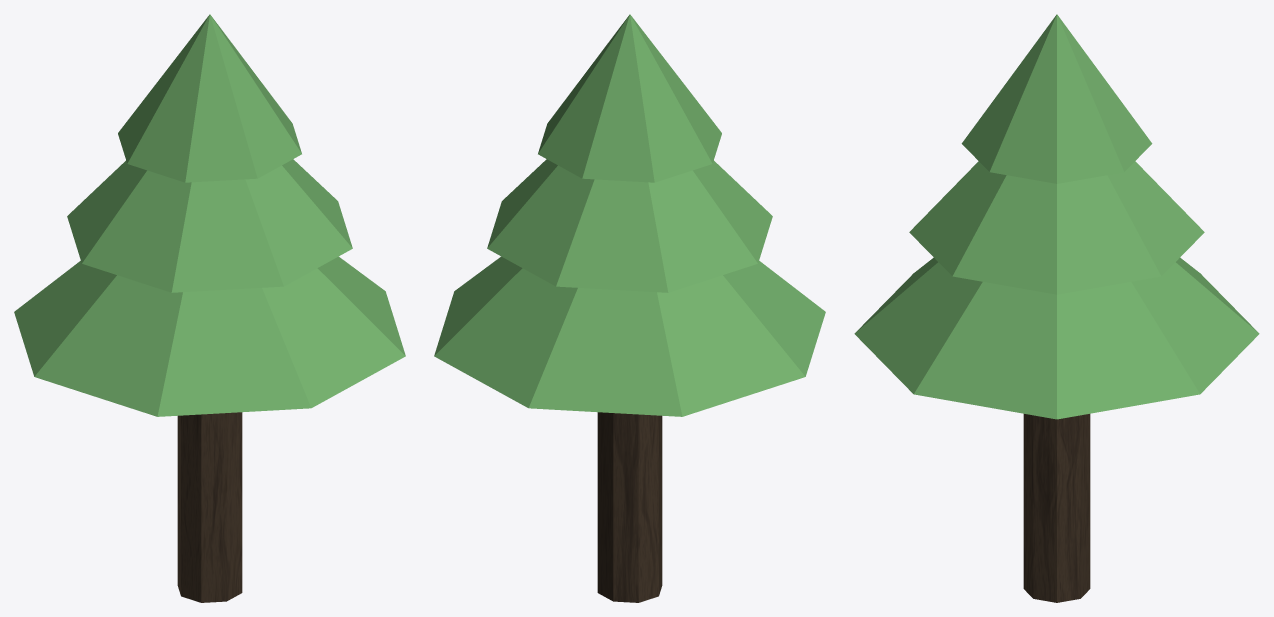
File: tree.glb
3 renders of one model, left to right at view 1: azimuth 30°, elevation 25°; view 2: azimuth 150°, elevation 25°; view 3: azimuth 270°, elevation 25°, orthographic.
Visible parts, largest first — view 1: Tree_Canopy_0, Tree_Canopy_1, Tree_Canopy_2, Tree_Trunk; view 2: Tree_Canopy_0, Tree_Canopy_1, Tree_Canopy_2, Tree_Trunk; view 3: Tree_Canopy_0, Tree_Canopy_1, Tree_Canopy_2, Tree_Trunk.
Part boxes in pixels (<box>): Tree_Canopy_0: <box>14,256,405,416</box>; Tree_Canopy_1: <box>67,159,352,292</box>; Tree_Canopy_2: <box>118,14,301,182</box>; Tree_Trunk: <box>177,412,242,602</box>; Tree_Canopy_0: <box>434,256,825,416</box>; Tree_Canopy_1: <box>487,159,772,292</box>; Tree_Canopy_2: <box>538,14,721,182</box>; Tree_Trunk: <box>597,412,662,602</box>; Tree_Canopy_0: <box>854,257,1259,419</box>; Tree_Canopy_1: <box>909,161,1204,294</box>; Tree_Canopy_2: <box>961,14,1152,183</box>; Tree_Trunk: <box>1023,414,1090,602</box>.
Size of the model in its own units: 1.7 by 2.66 by 1.7.
2 materials, 1 textured.
